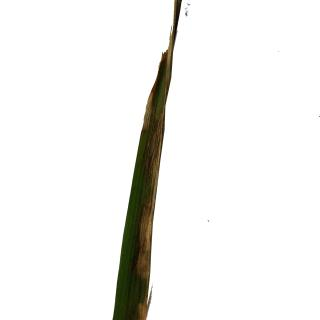Hawar-Daun: (148, 108, 165, 190), (137, 203, 152, 279), (135, 291, 155, 320), (146, 91, 155, 132)
